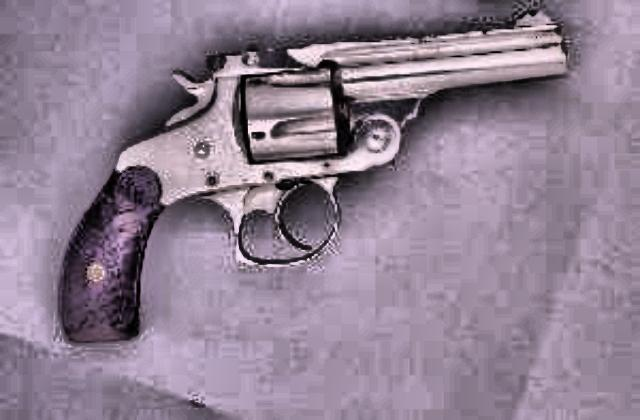pistol: (51, 9, 567, 343)
